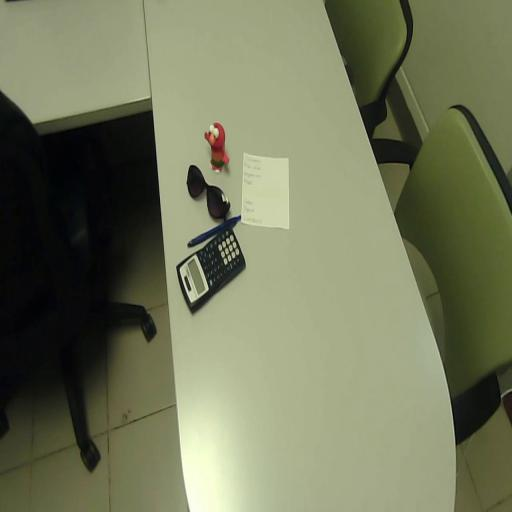pen: (187, 215, 241, 247)
